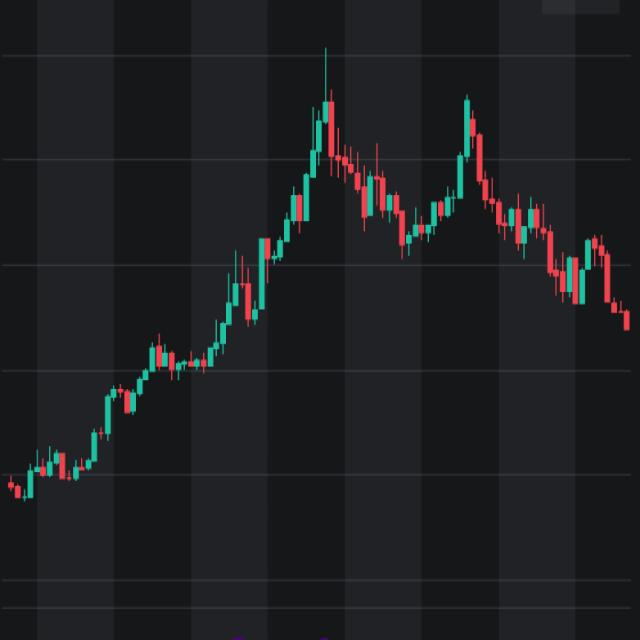Falling-Wedge: (247, 0, 633, 336)
